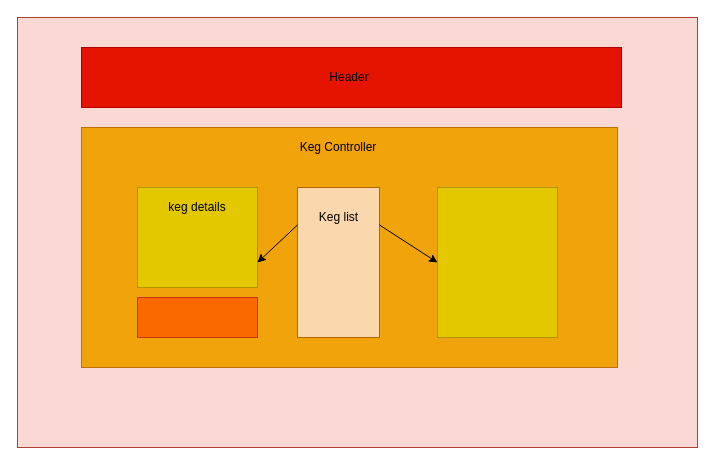
The diagram is 715 pixels wide and 465 high, and some of its shapes have lost their labels. Here are the shapes that lost their labels. From the top down, the centre of each, then its label:
At point (497, 262): "Create a keg".
At point (197, 317): "Delete a keg".
